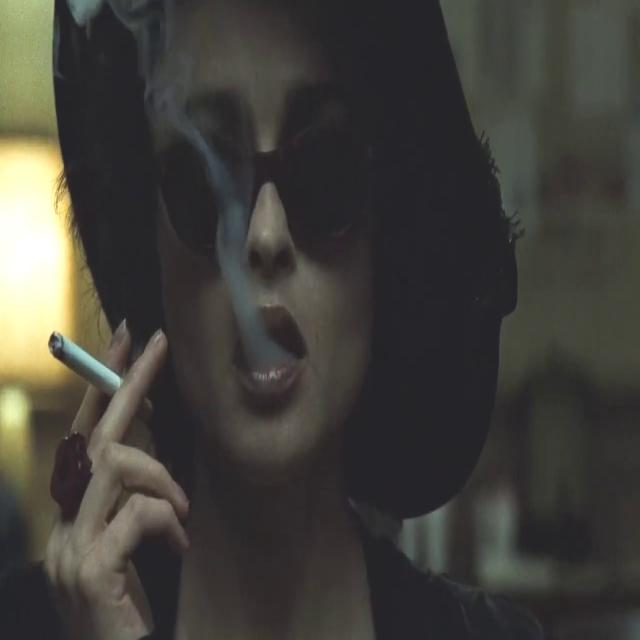Smooking: (42, 325, 130, 405)
